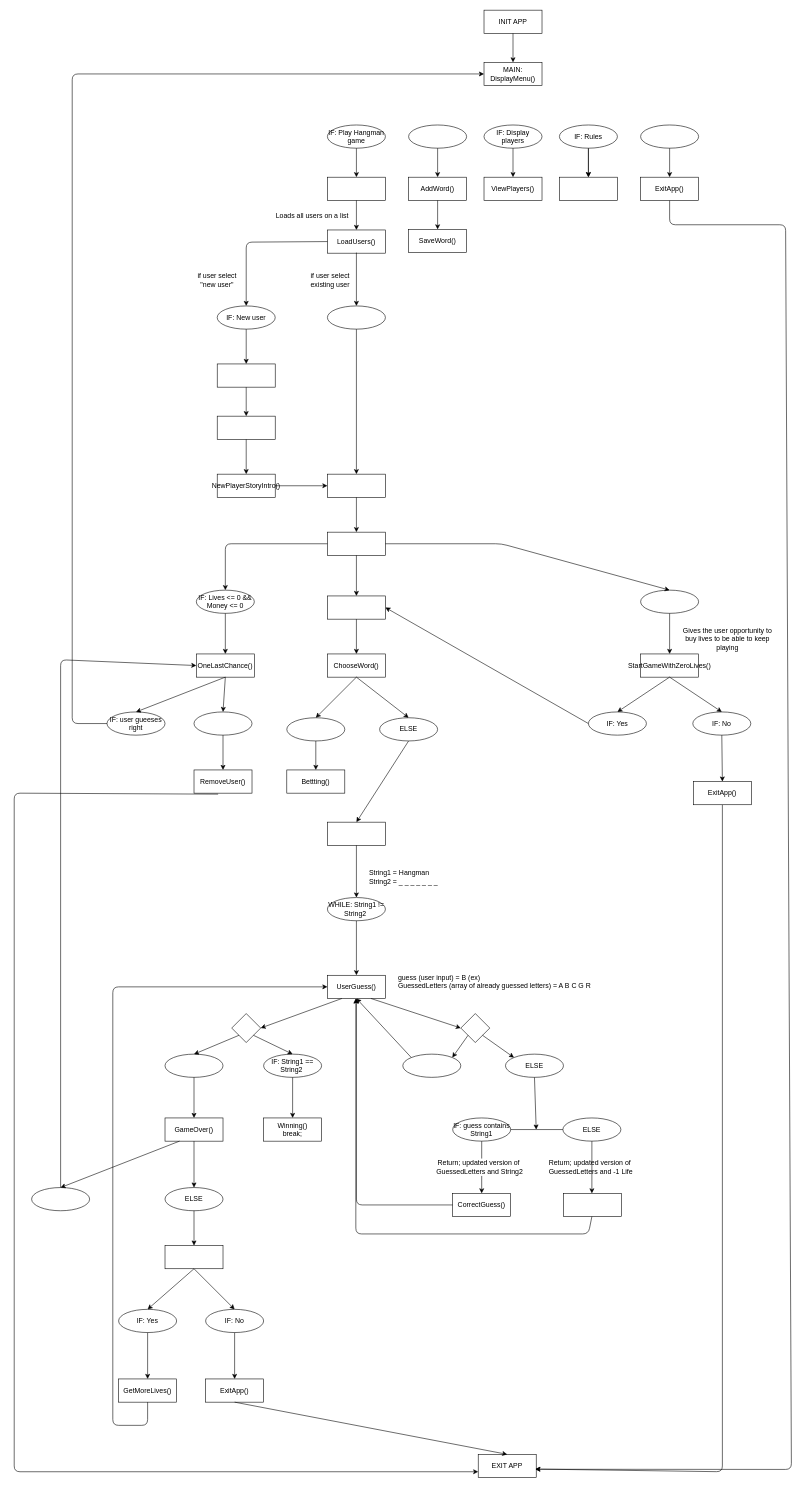
Image size: 806x1488. Some labels were removed from this diagram. The box of each missing label's shape, as (x1, y1, x2, y2) in pixels:
AddNewUser(): (217, 363, 275, 387)
BuyMoreLives: (164, 1245, 223, 1269)
ChooseDifficulty(): (327, 595, 385, 619)
DisplayAllUsers(): (327, 177, 385, 200)
ELSE IF (LIVES == 0): (164, 1054, 223, 1077)
GameDetails(): (327, 822, 385, 845)
IF: Add word: (408, 124, 467, 148)
IF: Existning user: (327, 305, 385, 329)
IF: GuessedLetters cointans guess: (402, 1054, 461, 1077)
IF: Lives == 0 && Money > 0: (640, 590, 699, 613)
IF: Money == 0: (31, 1187, 90, 1211)
IF: Money > 0: (286, 717, 345, 741)
IF: Quit app: (640, 124, 699, 148)
IF: user gueeses wrong: (193, 711, 252, 735)
PlayHangman(): (327, 532, 385, 555)
Rules(): (559, 177, 617, 200)
SaveUsers(): (217, 416, 275, 439)
SelectedPlayer(): (327, 474, 385, 497)
WrongGuess(): (563, 1193, 621, 1217)
